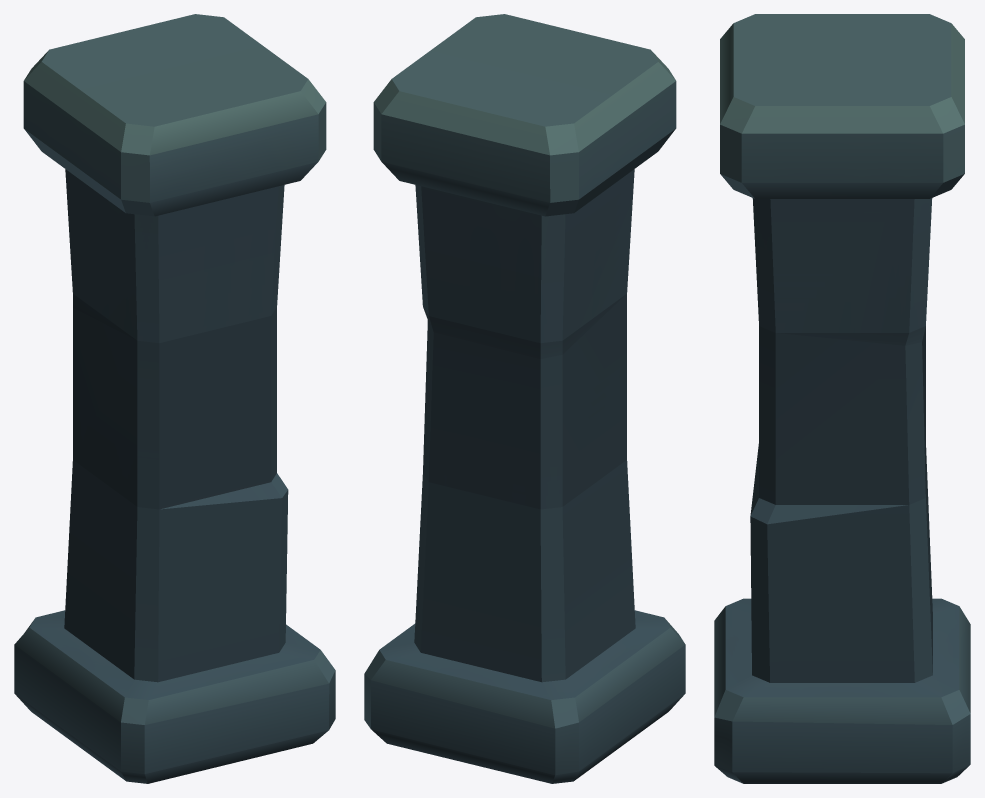
Rendered from pillar_short_slim_1.fbx.
3 views of the same model, side by side, from view 1: azimuth 30°, elevation 25°; view 2: azimuth 150°, elevation 25°; view 3: azimuth 270°, elevation 25° (orthographic). The views are drawn at different scales.
Parts seen in each view (by area): view 1: pillar_short_slim_1; view 2: pillar_short_slim_1; view 3: pillar_short_slim_1.
Part boxes in pixels (box(x1,y1,x2,y2)): pillar_short_slim_1: box(14, 14, 335, 783); pillar_short_slim_1: box(364, 14, 685, 783); pillar_short_slim_1: box(714, 14, 970, 783).
Bounding box in the file's own units: 70.88 × 206 × 70.88.
